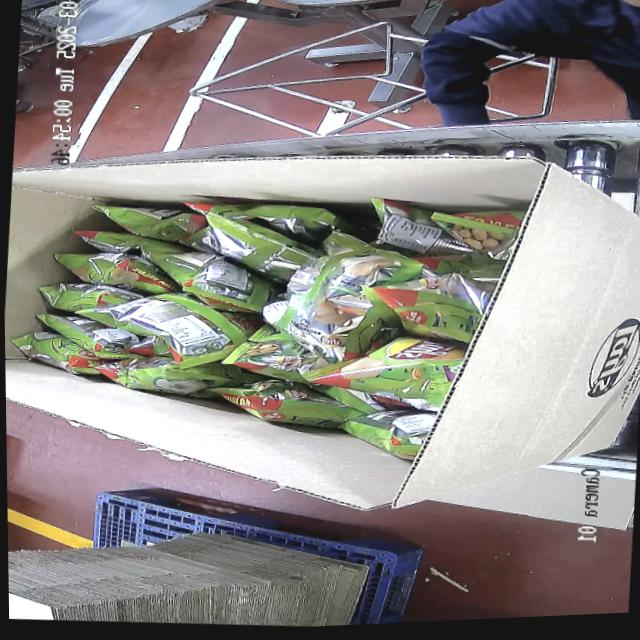YOGURT_HERB: (3, 170, 515, 481)
